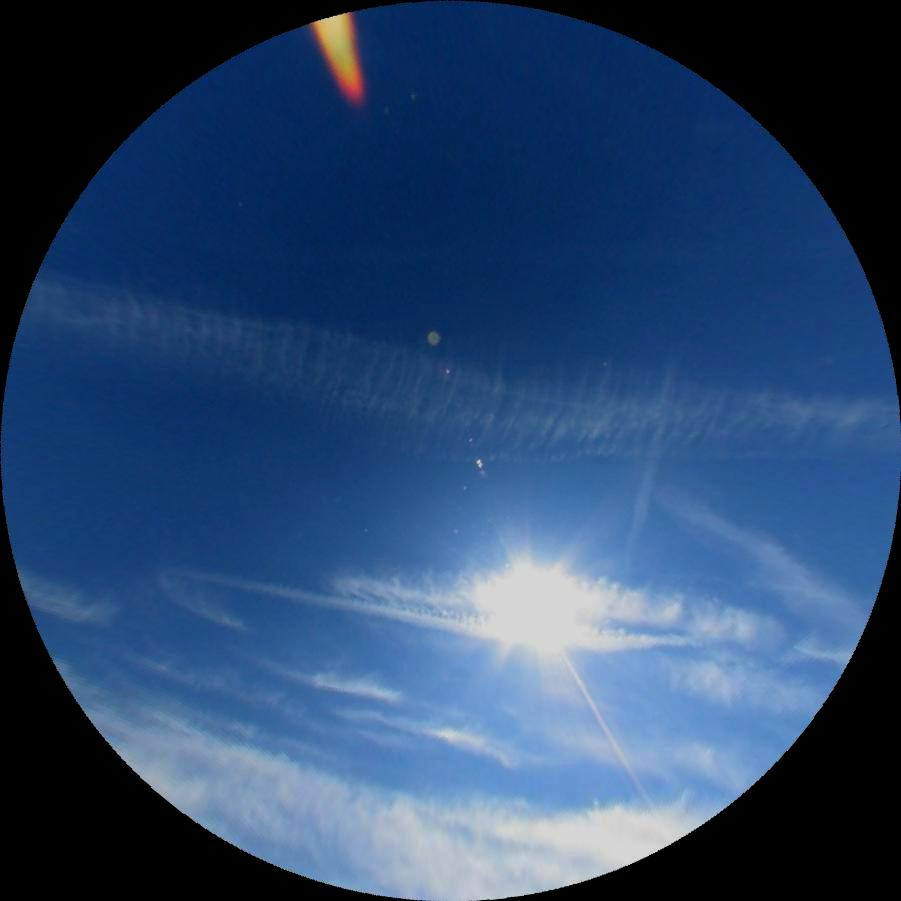contrail veryold: (160, 563, 708, 670), (328, 541, 791, 654), (633, 473, 881, 647), (620, 425, 668, 559)
parasite: (554, 643, 656, 810)
sun: (481, 558, 594, 656)
